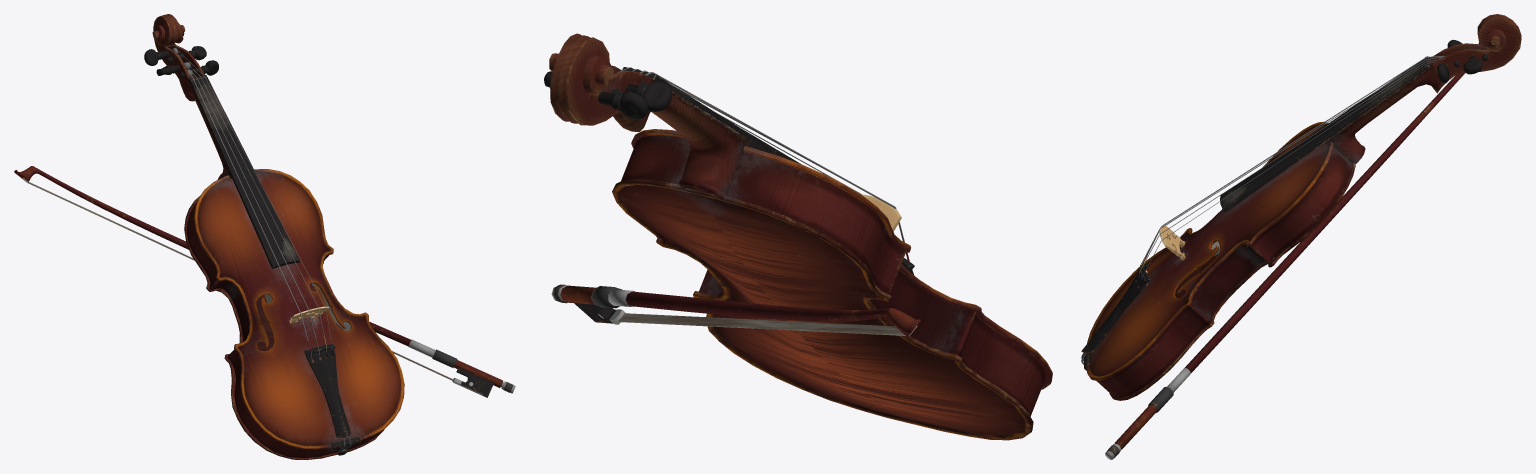
File: violin.glb
3 renders of one model, left to right at view 1: azimuth 30°, elevation 25°; view 2: azimuth 150°, elevation 25°; view 3: azimuth 270°, elevation 25°, orthographic. The views are drawn at different scales.
Visible parts, largest first — view 1: Plane.016, object 26, object 31, object 35, object 32, Plane.017, Cylinder.070, Plane.011, Cylinder.074; view 2: Plane.017, object 31, object 35, Cylinder.070, Plane.016, Plane.011, object 26, object 30, object 28, Plane.015, Cylinder.074, Cylinder.071; view 3: Plane.016, object 31, object 35, object 26, Cylinder.070, Plane.017, object 32, Cylinder.071, Plane.015, Plane.014, object 33, Plane.012.
Part boxes in pixels (bbox=[...]): Plane.016: bbox=[193, 169, 404, 449]; object 26: bbox=[188, 74, 299, 268]; object 31: bbox=[187, 203, 380, 458]; object 35: bbox=[152, 14, 232, 179]; object 32: bbox=[304, 344, 351, 438]; Plane.017: bbox=[184, 195, 384, 459]; Cylinder.070: bbox=[14, 166, 410, 346]; Plane.011: bbox=[22, 177, 453, 380]; Cylinder.074: bbox=[452, 367, 493, 397]; Plane.017: bbox=[612, 179, 1033, 440]; object 31: bbox=[621, 135, 1045, 416]; object 35: bbox=[549, 33, 750, 199]; Cylinder.070: bbox=[625, 291, 920, 336]; Plane.016: bbox=[631, 129, 1052, 389]; Plane.011: bbox=[618, 313, 917, 335]; object 26: bbox=[622, 67, 801, 164]; object 30: bbox=[598, 90, 648, 119]; object 28: bbox=[625, 81, 672, 111]; Plane.015: bbox=[645, 72, 909, 261]; Cylinder.074: bbox=[574, 303, 625, 324]; Cylinder.071: bbox=[551, 285, 596, 304]; Plane.016: bbox=[1086, 121, 1333, 380]; object 31: bbox=[1097, 147, 1352, 397]; object 35: bbox=[1324, 14, 1521, 163]; object 26: bbox=[1220, 56, 1430, 212]; Cylinder.070: bbox=[1185, 73, 1464, 372]; Plane.017: bbox=[1109, 163, 1355, 400]; object 32: bbox=[1081, 263, 1149, 355]; Cylinder.071: bbox=[1105, 405, 1156, 459]; Plane.015: bbox=[1141, 56, 1441, 266]; Plane.014: bbox=[1139, 56, 1444, 267]; object 33: bbox=[1159, 226, 1185, 260]; Plane.012: bbox=[1139, 59, 1439, 276].
Bounding box in the file's own units: 3.65 × 3.22 × 3.52.
Materials: 2 (2 with a texture image).
